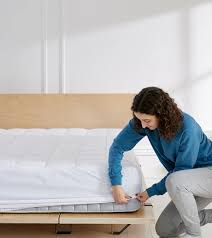bed-matress: (1, 127, 148, 215)
